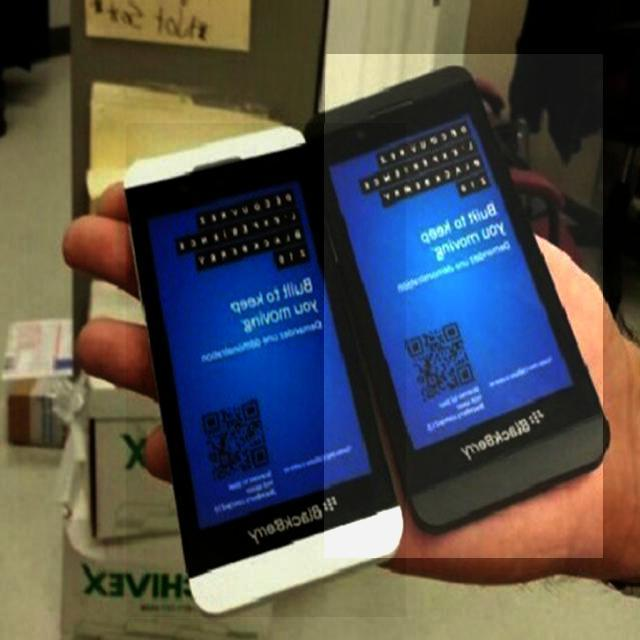mobile: (324, 54, 602, 559), (126, 123, 406, 617)
